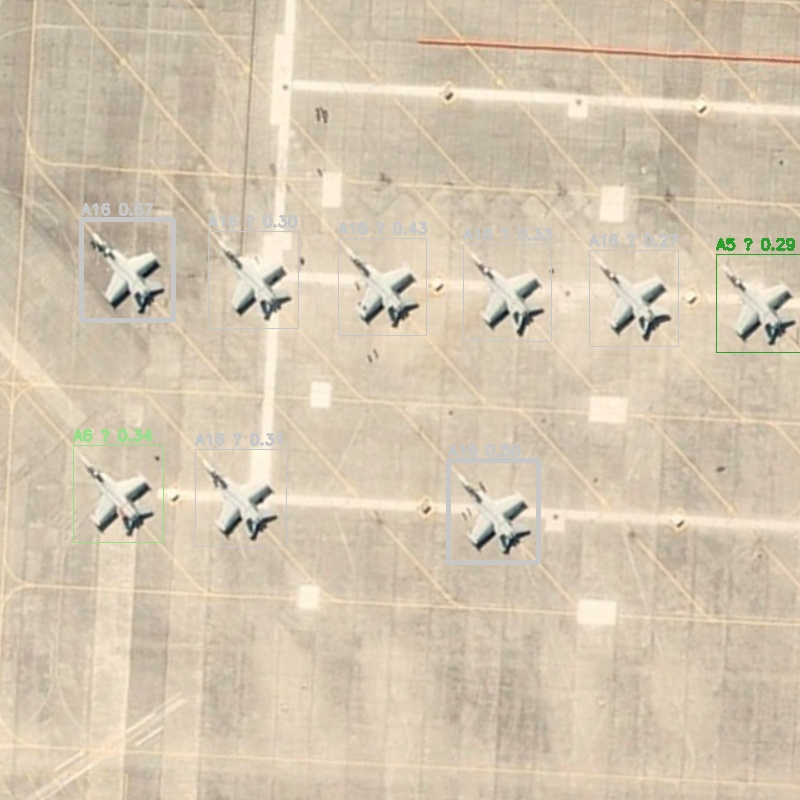A16: (81, 219, 173, 320), (448, 460, 538, 562), (195, 449, 286, 546), (208, 231, 298, 328), (589, 250, 678, 346), (338, 238, 426, 335), (463, 244, 551, 341)
A5: (716, 254, 800, 352)
A6: (73, 445, 163, 542)
